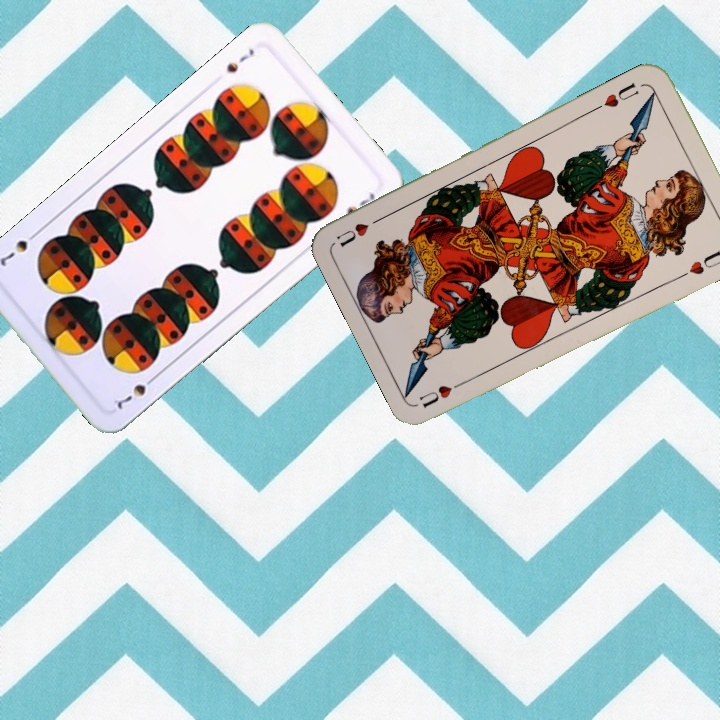HU: (415, 375, 471, 410), (591, 78, 642, 113)
S7: (110, 371, 160, 412), (222, 44, 257, 76)
